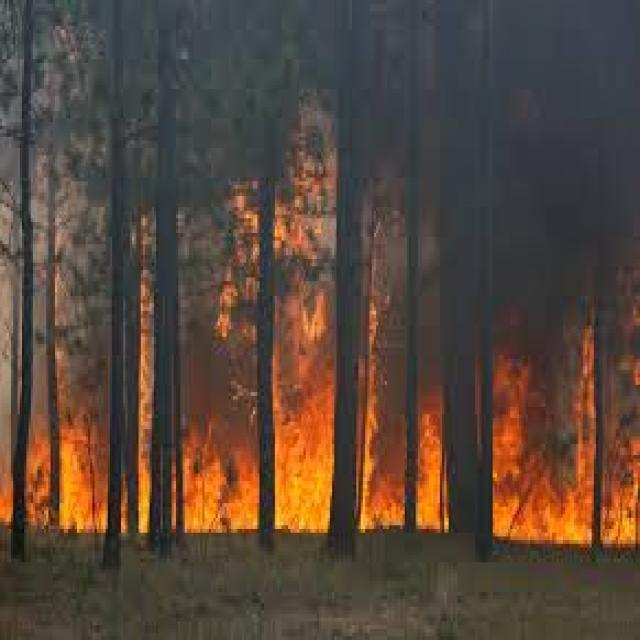Fire: (0, 165, 640, 552)
